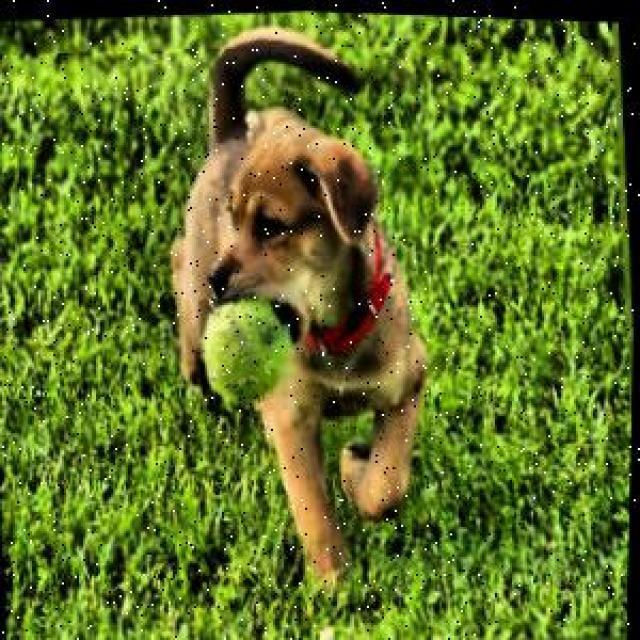tennis-ball: (198, 291, 298, 415)
